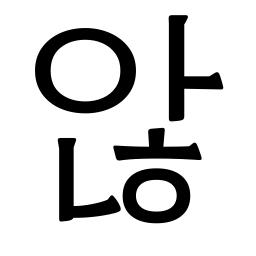Gaji: (157, 64, 201, 103)
